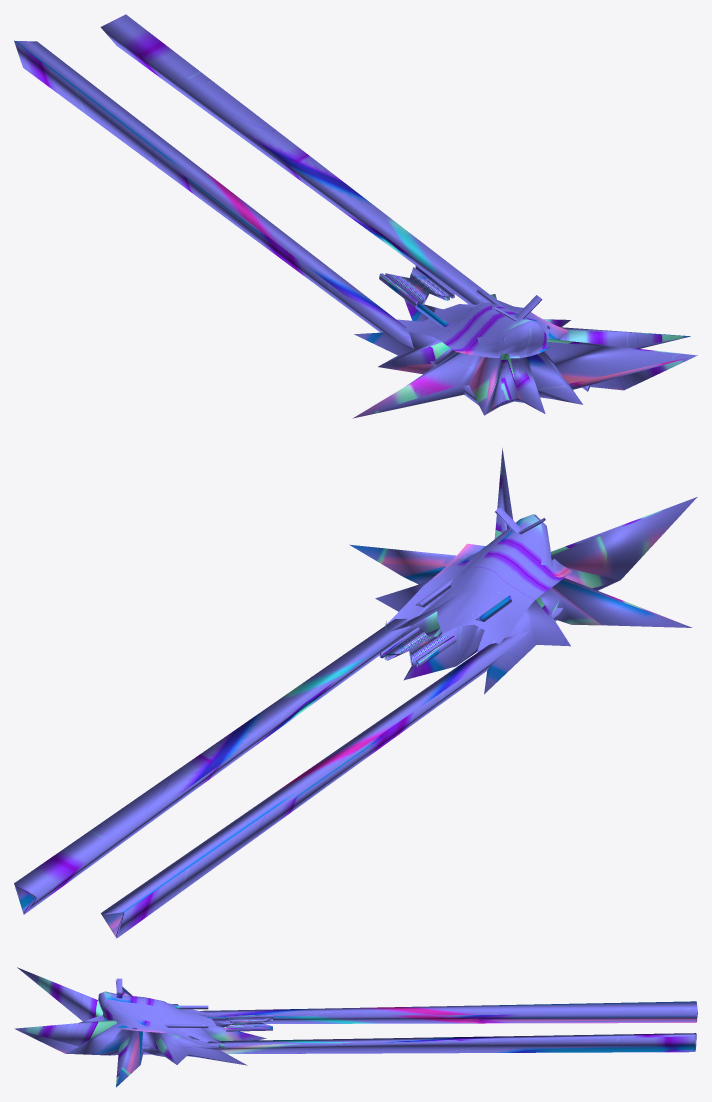
The model's file is gunship.obj.
The picture shows the model from 3 angles, top to bottom: view 1: azimuth 30°, elevation 25°; view 2: azimuth 150°, elevation 25°; view 3: azimuth 270°, elevation 25°; orthographic projection. The views are drawn at different scales.
Parts seen in each view (by area): view 1: Ship_Body, Gun_2, Gun_1, Driving_Seat; view 2: Ship_Body, Gun_2, Gun_1, Driving_Seat; view 3: Gun_2, Gun_1, Ship_Body, Driving_Seat, Gun_Stripes_2, Gun_Stripe_4.
Part boxes in pixels (bbox=[...]): Ship_Body: bbox=[352, 299, 697, 418]; Gun_2: bbox=[14, 40, 478, 405]; Gun_1: bbox=[100, 14, 590, 391]; Driving_Seat: bbox=[397, 294, 568, 358]; Ship_Body: bbox=[349, 448, 697, 694]; Gun_2: bbox=[101, 607, 562, 938]; Gun_1: bbox=[14, 618, 412, 914]; Driving_Seat: bbox=[385, 514, 572, 652]; Gun_2: bbox=[200, 1001, 697, 1023]; Gun_1: bbox=[142, 1033, 696, 1054]; Ship_Body: bbox=[14, 967, 266, 1087]; Driving_Seat: bbox=[98, 991, 228, 1049]; Gun_Stripes_2: bbox=[226, 1017, 272, 1022]; Gun_Stripe_4: bbox=[226, 1026, 272, 1031].
Bounding box in the file's own units: 6.99 × 1.8 × 18.85.
1 material, 1 textured.
